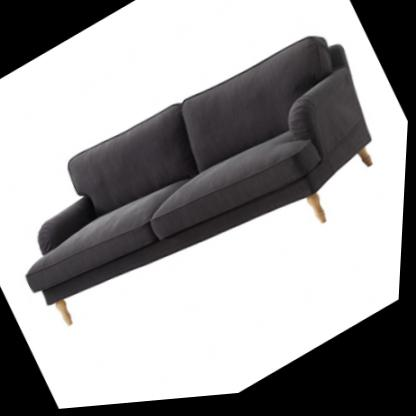Sofa: (0, 4, 415, 381)
